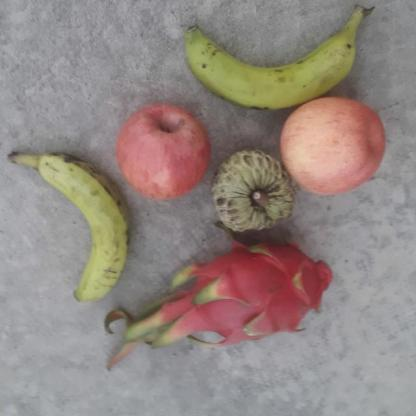annona: (216, 149, 298, 237)
apple: (281, 99, 389, 197), (119, 104, 214, 203)
banana: (2, 153, 131, 307), (175, 8, 359, 114)
pitaya: (180, 238, 336, 348)
